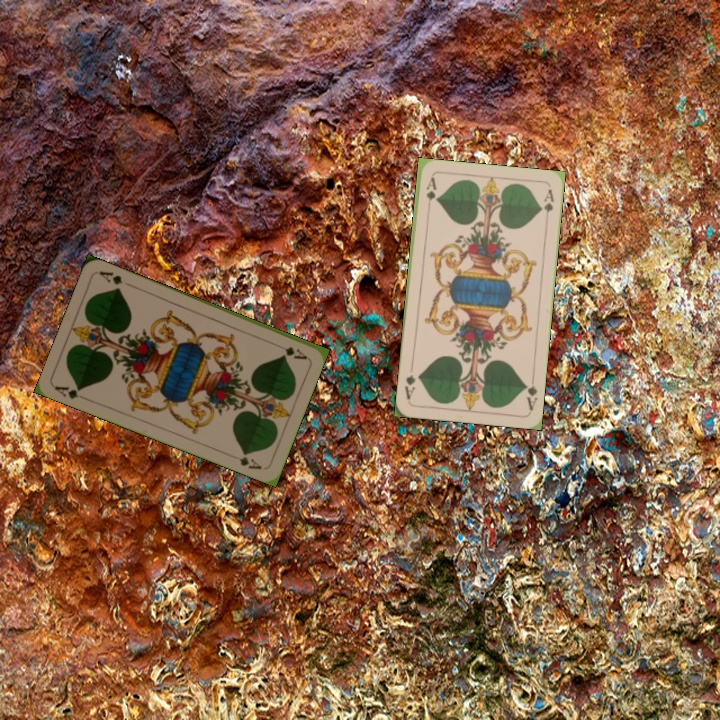GA: (271, 339, 310, 362), (51, 382, 90, 403), (521, 372, 540, 413), (422, 173, 438, 214)
